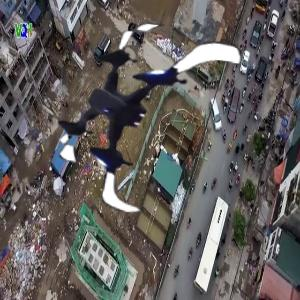drone: (35, 18, 235, 218)
